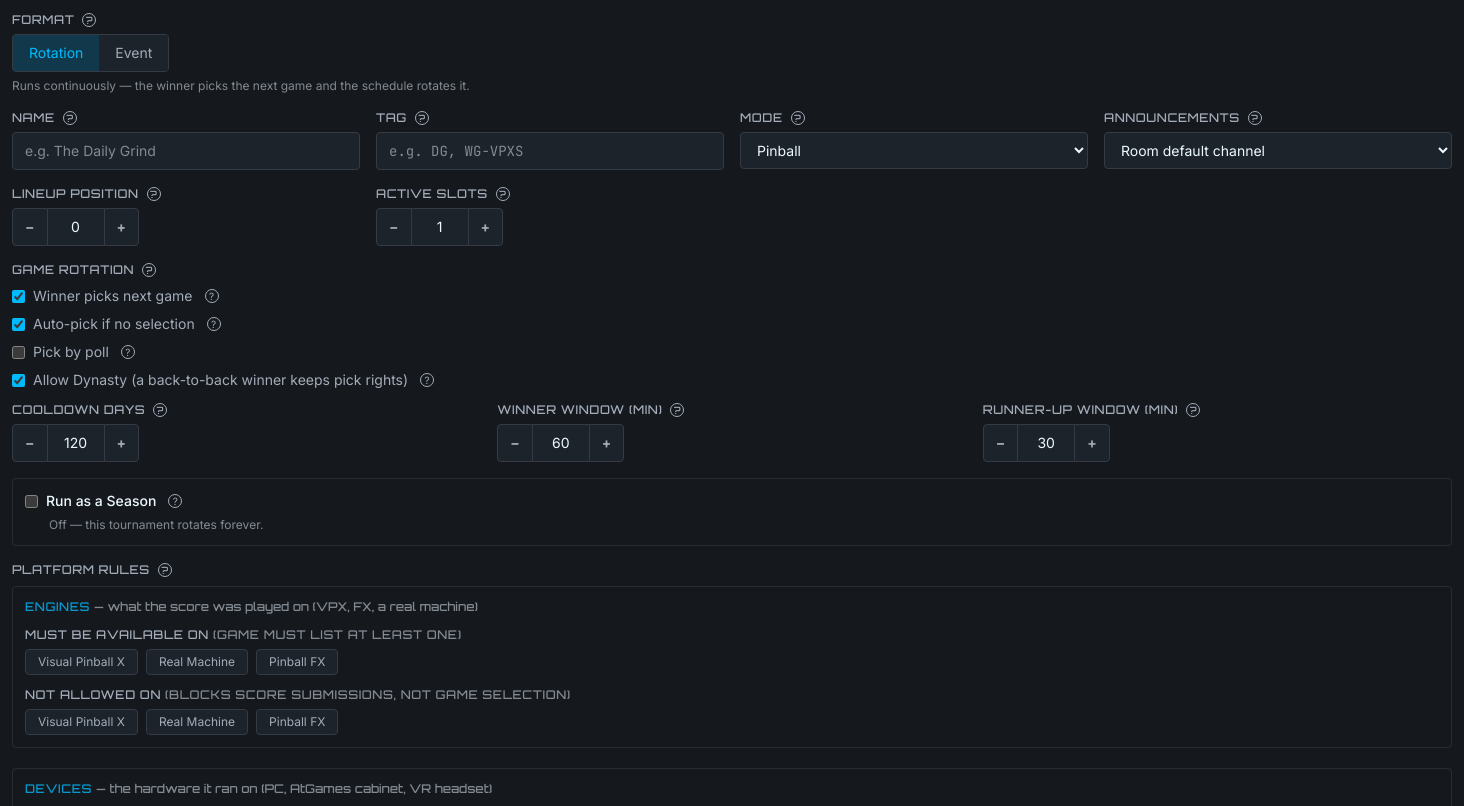
Test case: TournamentFormFields — Allow Dynasty checkbox › is hidden entirely when "Winner picks next game" is off — nothing to configure
The width and height of the screenshot is (1464, 806).
Click the checkbox labelled "Winner picks next game ?". click: (18, 296)
box: [12, 290, 25, 302]
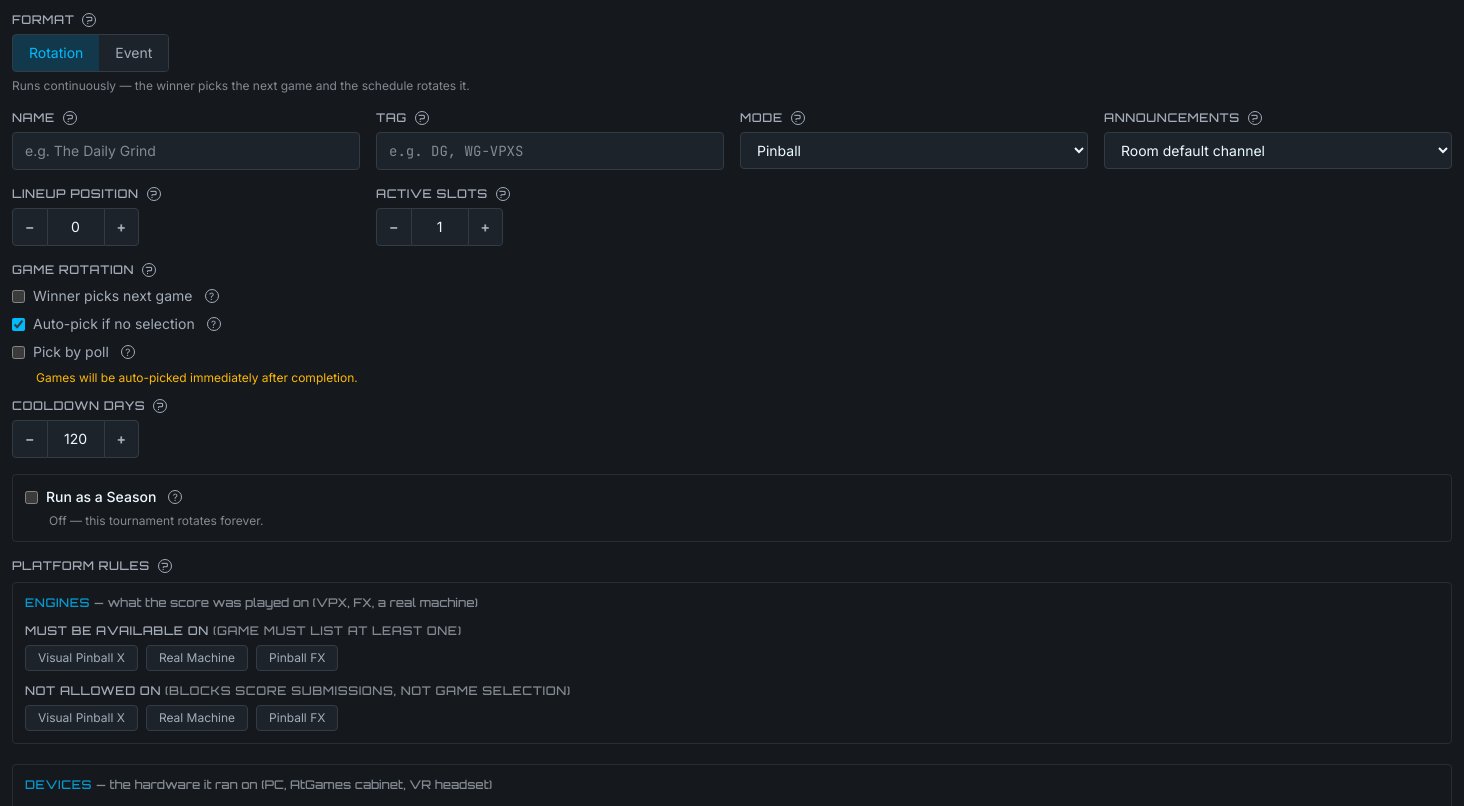
expect the text labelled "Allow Dynasty" is gone: met
